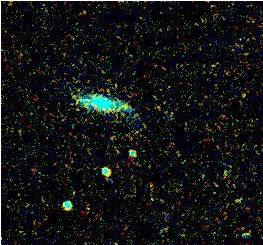star: (110, 90, 140, 120)
